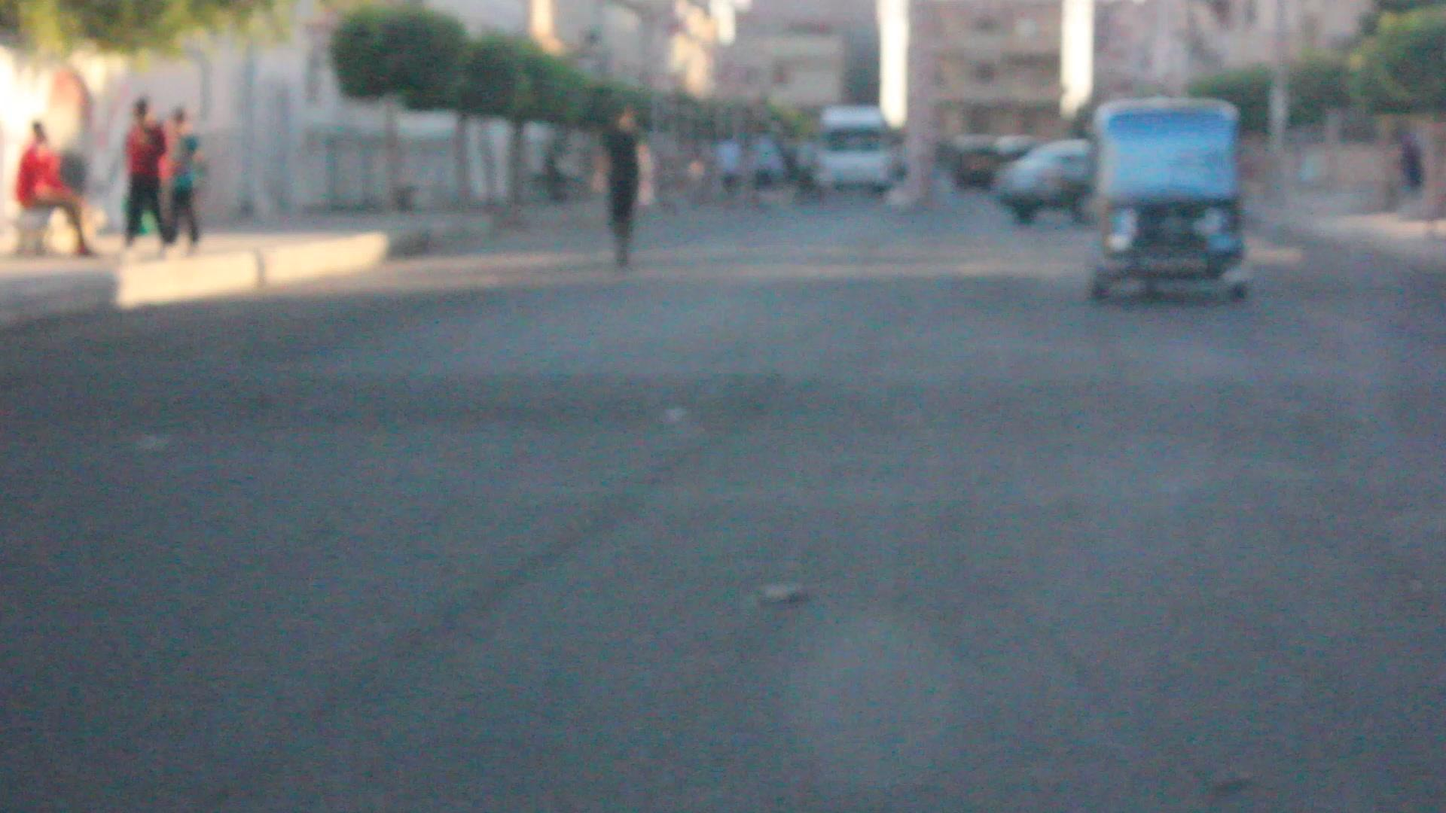Bump: (2, 343, 1446, 440)
